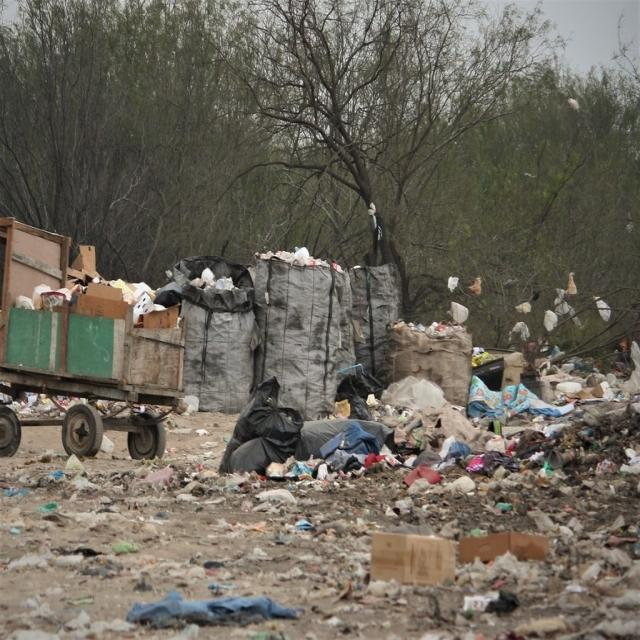garbage: (1, 342, 638, 637), (1, 217, 638, 488), (218, 344, 638, 488), (218, 376, 303, 475)
